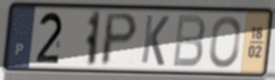1: (85, 9, 103, 70)
2: (35, 10, 64, 66)
B: (171, 13, 207, 70)
K: (139, 13, 171, 68)
O: (208, 15, 243, 70)
P: (98, 11, 140, 68)
